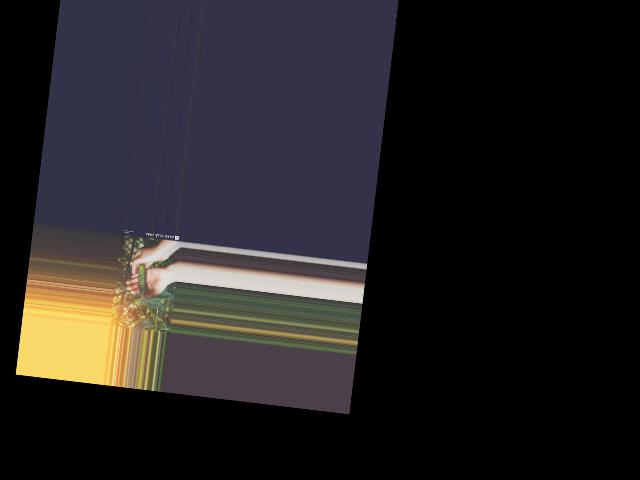cucumber: (135, 264, 150, 295)
